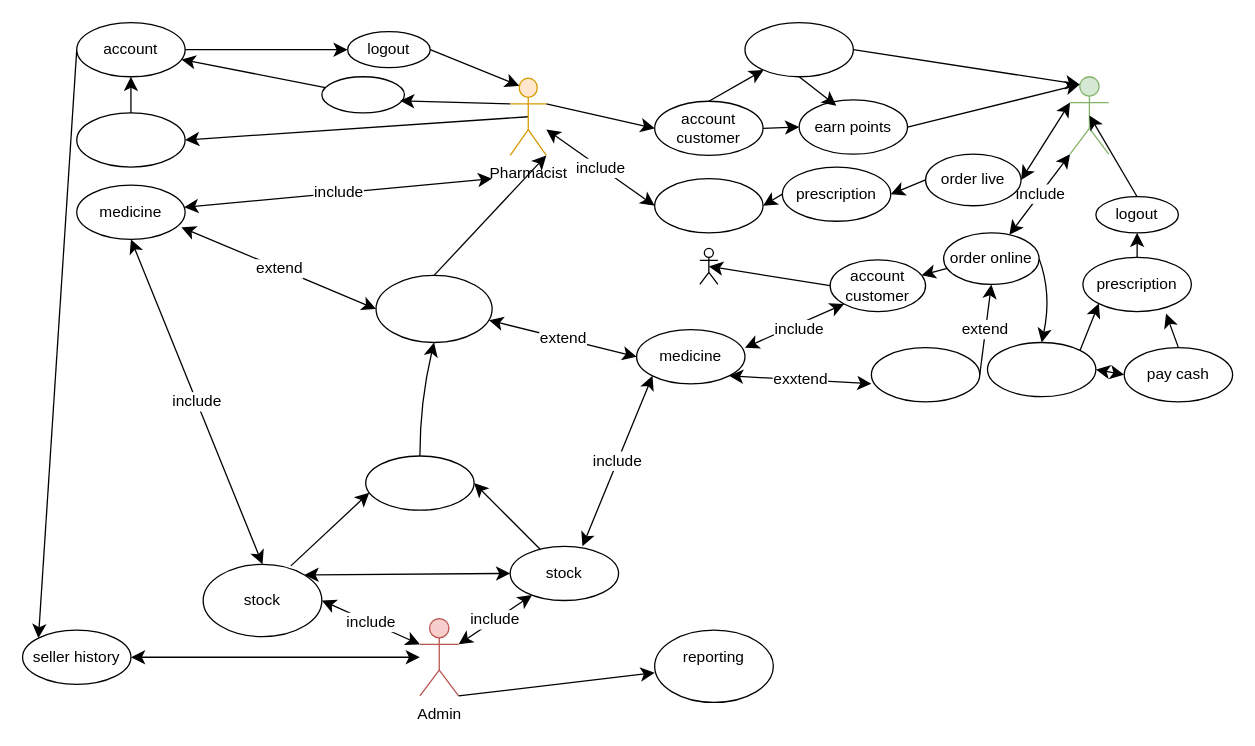
Image size: 1255x746. Some labels were removed from this diagram. The shapes that lost their labels are listed below. From the top down, each one's box as (x1, y1, x2, y2) in pixels, then its label:
(744, 21, 853, 77): sales
(321, 75, 404, 113): login
(1069, 75, 1109, 154): Customer
(75, 112, 185, 167): branch
(653, 177, 763, 233): prescription item
(699, 247, 718, 284): support hotline
(375, 274, 492, 342): notification
(870, 346, 980, 402): voucher
(986, 341, 1096, 397): pay online
(364, 455, 474, 510): batchlot
